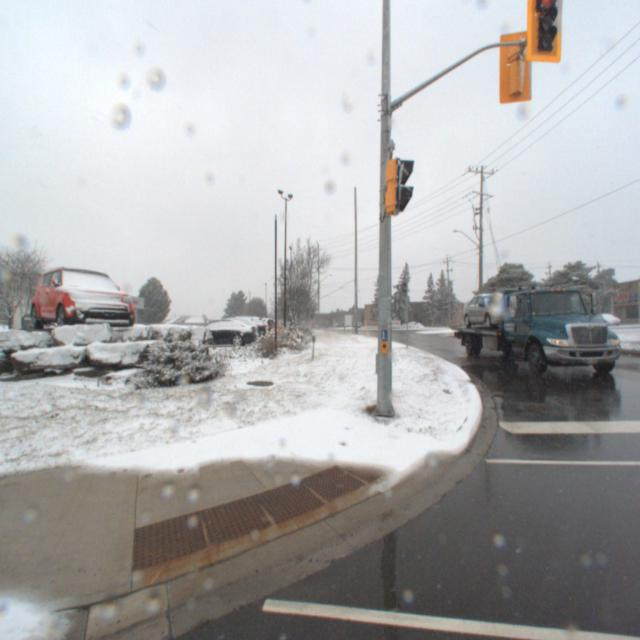Car: (22, 251, 144, 333), (170, 314, 258, 348), (14, 315, 94, 344), (189, 314, 259, 346), (202, 311, 266, 344), (587, 317, 618, 332)
